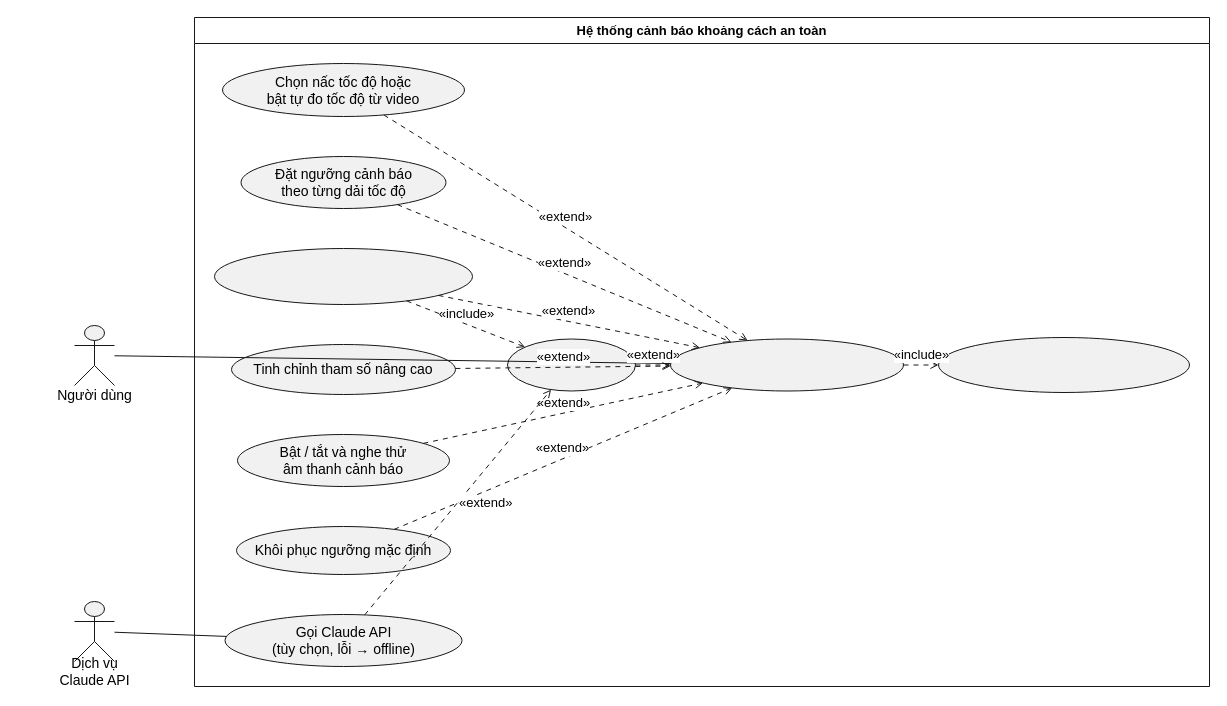
Image size: 1227x706. Some labels were removed from this diagram. The shapes that lost their labels are listed below. From the top down, each one's box as (x1, y1, x2, y2) in pixels, then its label:
(214, 248, 472, 304): Chọn nhanh điều kiện đường (8 nút)
(506, 338, 636, 391): Hỏi Trợ lý AI gợi ý ngưỡng
(670, 338, 904, 391): UC03. Cấu hình ngưỡng cảnh báo
(938, 336, 1190, 392): Tính lại & hiển thị ngưỡng cảnh báo / nguy hiểm
